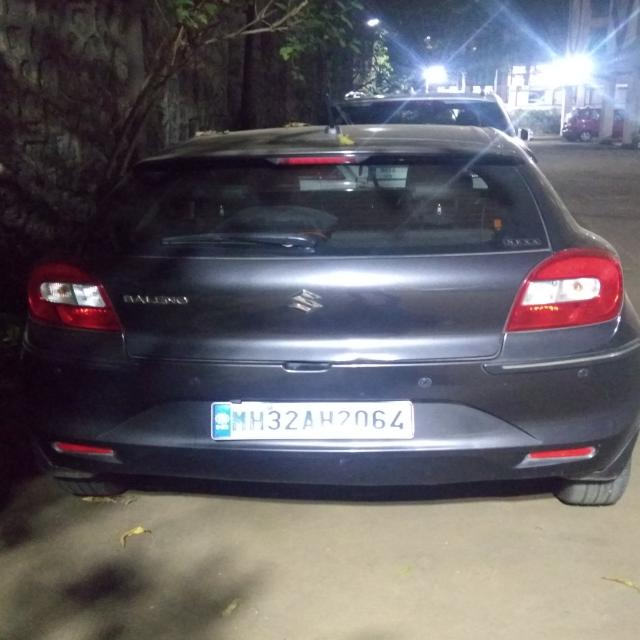Number-Plate: (211, 402, 418, 437)
